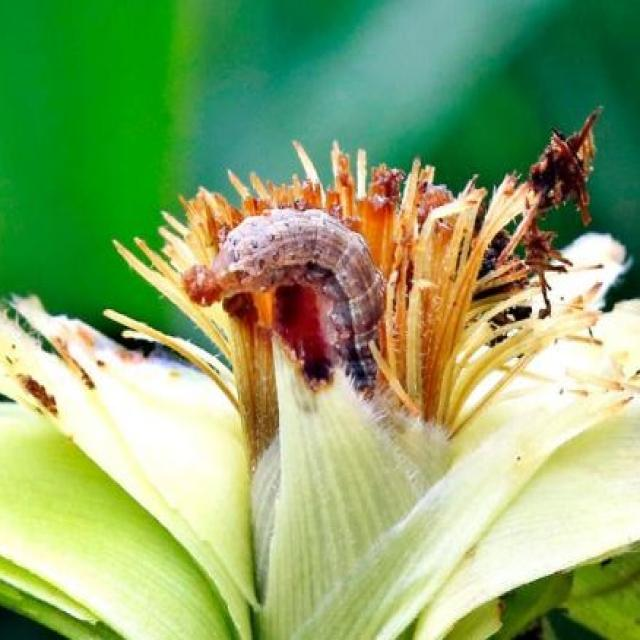Fall-armyworm: (186, 213, 397, 404)
